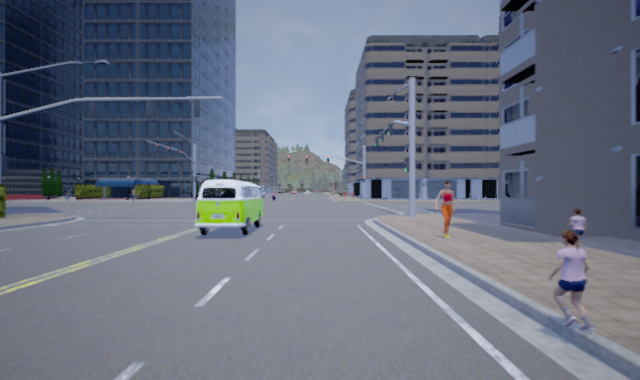pedestrian: (546, 229, 589, 331), (433, 180, 457, 239), (565, 208, 587, 253)
vehicle: (193, 179, 263, 235)
